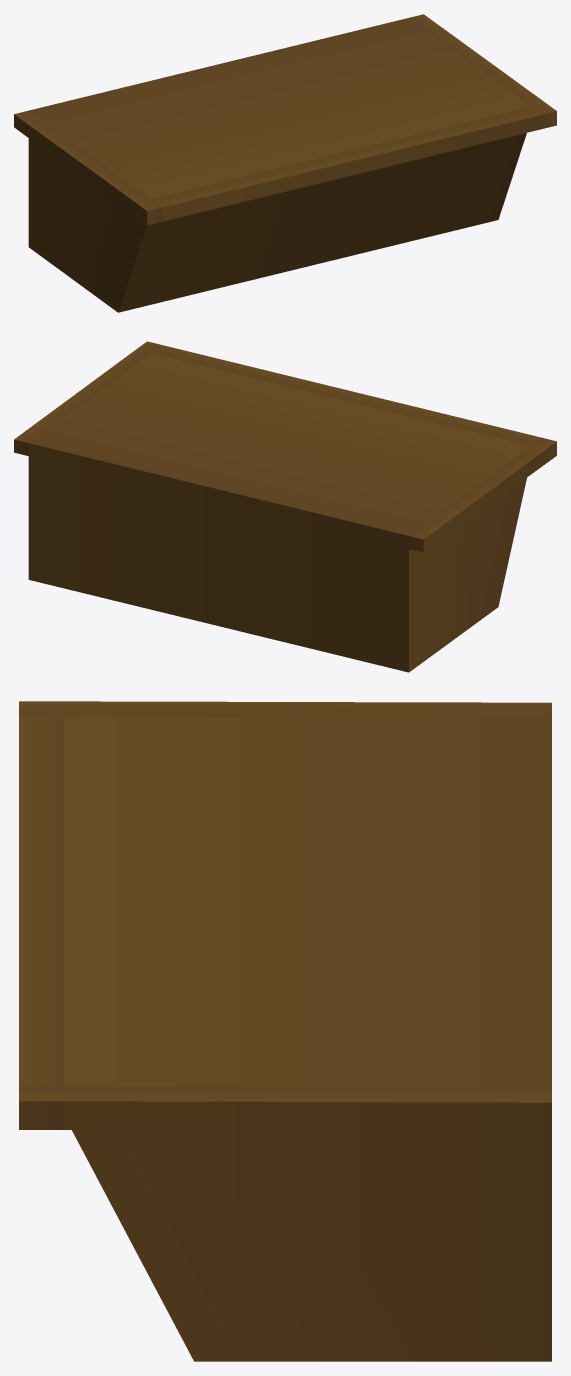
The model's file is MarketTable1.fbx.
3 renders of one model, top to bottom at view 1: azimuth 30°, elevation 25°; view 2: azimuth 150°, elevation 25°; view 3: azimuth 270°, elevation 25°, orthographic. The views are drawn at different scales.
Visible parts, largest first — view 1: MarketTable1; view 2: MarketTable1; view 3: MarketTable1.
Part boxes in pixels (<box>): MarketTable1: <box>14,14,556,312</box>; MarketTable1: <box>14,341,556,672</box>; MarketTable1: <box>19,701,551,1361</box>.
Bounding box in the file's own units: 212 × 67.79 × 119.
